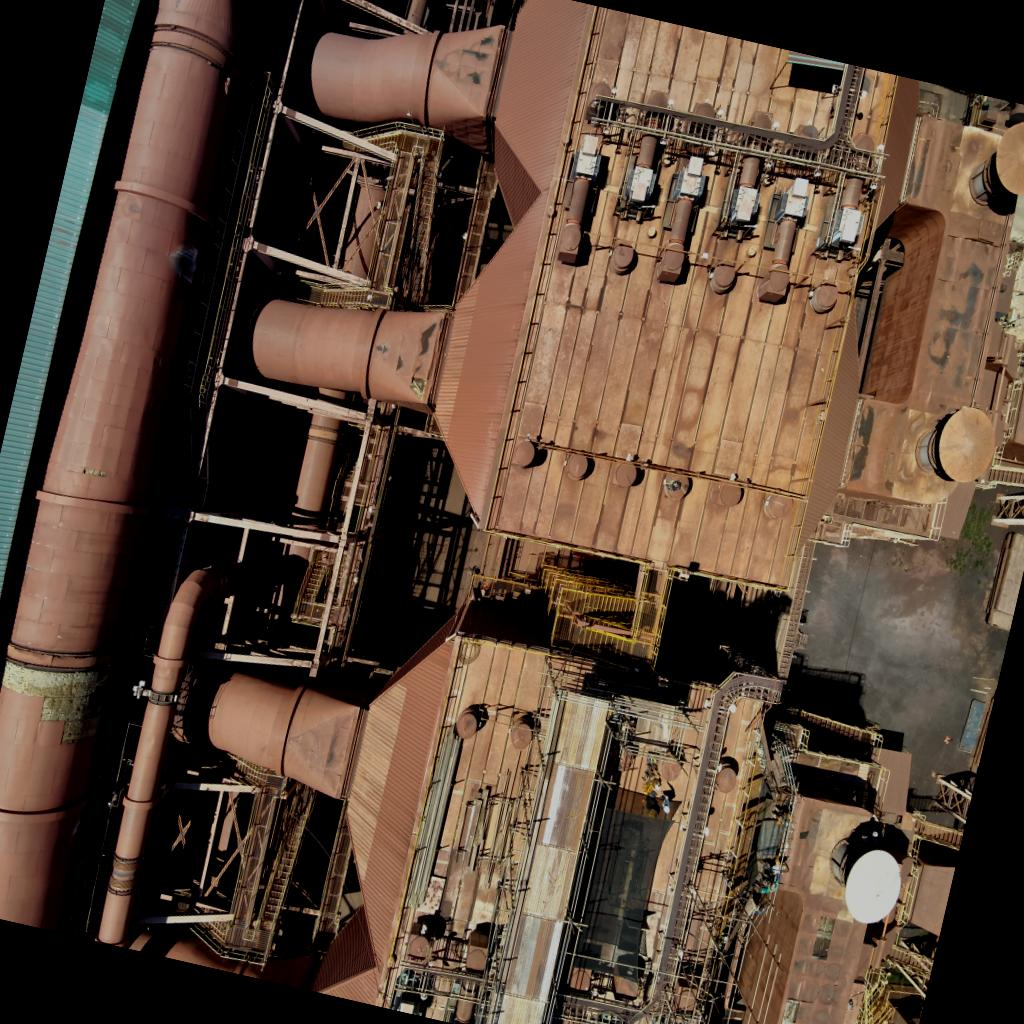Failures: (0, 645, 118, 747), (940, 201, 1014, 259), (805, 906, 840, 968), (773, 992, 807, 1024), (404, 368, 432, 406), (78, 460, 110, 482)
